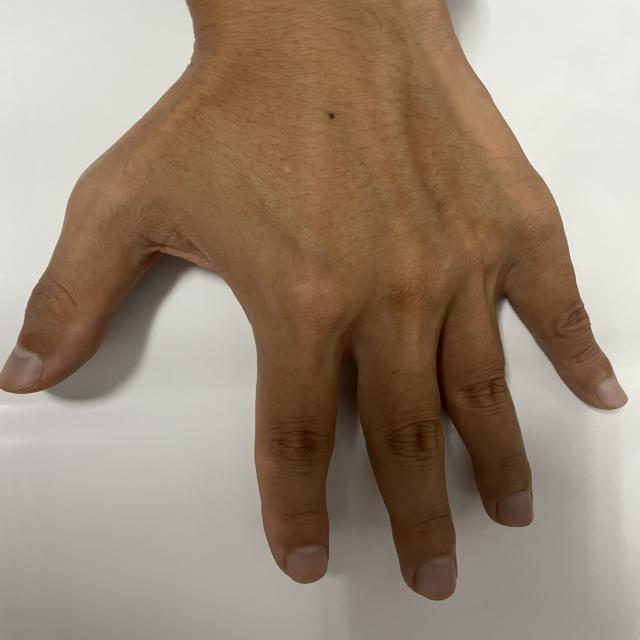Scissors: (16, 14, 637, 624)
